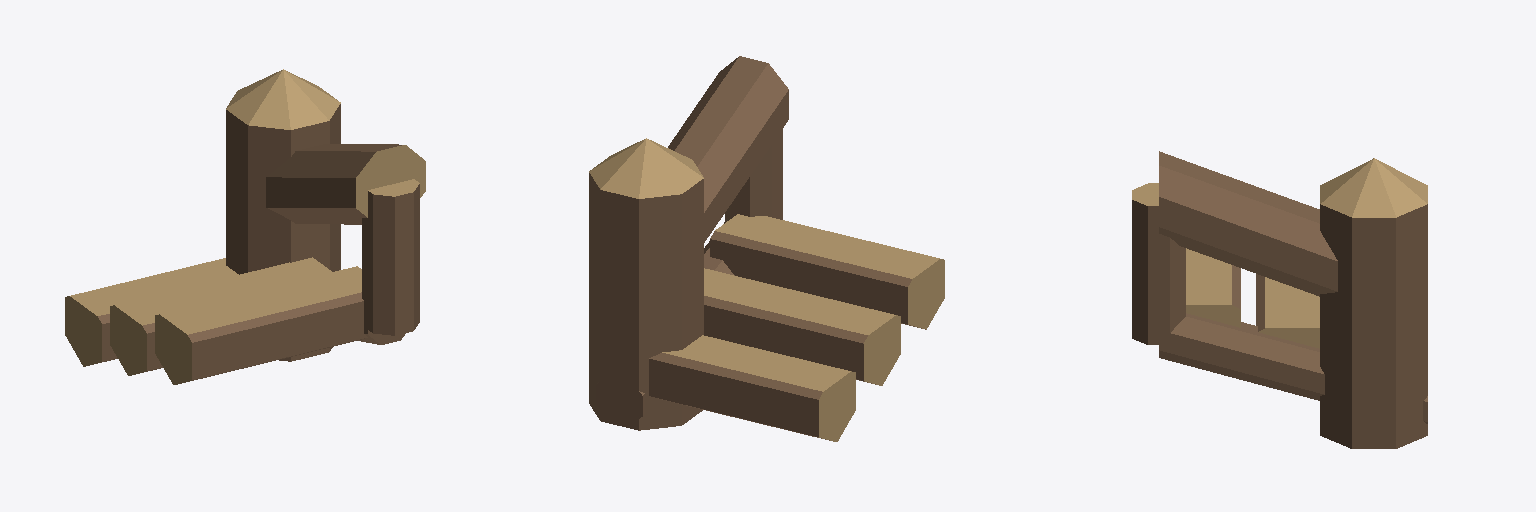
The model's file is Prop_Bridge_Log_End_Edge_Left.obj.
The picture shows the model from 3 angles: view 1: azimuth 30°, elevation 25°; view 2: azimuth 150°, elevation 25°; view 3: azimuth 270°, elevation 25°; orthographic projection.
Visible parts, largest first — view 1: object4, object7, object2, object3, object6, object5; view 2: object4, object7, object5, object6, object2, object3, object1; view 3: object4, object2, object1, object3, object6, object7.
Part boxes in pixels (left/top/right/bottom): object4: left=226, top=69, right=340, bottom=361; object7: left=155, top=266, right=367, bottom=384; object2: left=266, top=144, right=425, bottom=224; object3: left=362, top=179, right=419, bottom=335; object6: left=110, top=257, right=331, bottom=375; object5: left=65, top=258, right=238, bottom=366; object4: left=589, top=138, right=703, bottom=430; object7: left=710, top=214, right=944, bottom=329; object5: left=649, top=335, right=855, bottom=441; object6: left=704, top=268, right=900, bottom=385; object2: left=668, top=56, right=788, bottom=242; object3: left=725, top=129, right=782, bottom=220; object1: left=596, top=221, right=734, bottom=426; object4: left=1320, top=158, right=1427, bottom=448; object2: left=1159, top=151, right=1337, bottom=296; object1: left=1159, top=313, right=1427, bottom=423; object3: left=1132, top=183, right=1185, bottom=344; object6: left=1256, top=274, right=1319, bottom=348; object7: left=1186, top=248, right=1240, bottom=327.
Size of the model in its own units: 1.04 by 1.1 by 1.1.